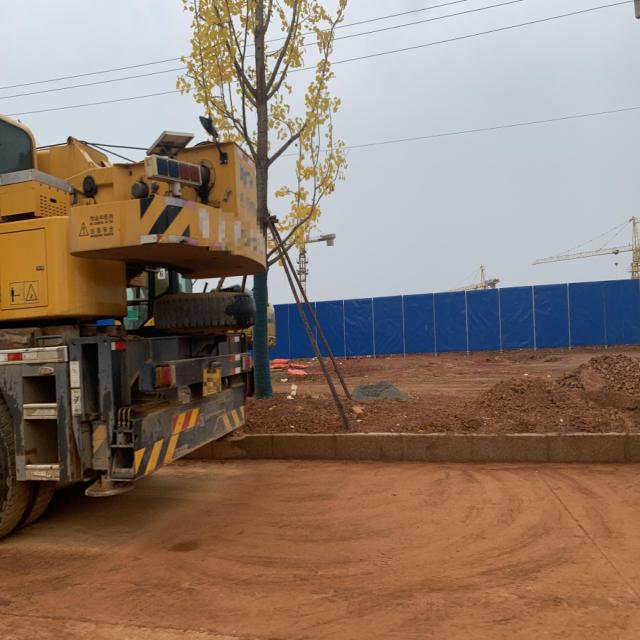crane: (0, 113, 267, 540), (532, 216, 639, 278), (294, 231, 335, 294), (449, 264, 499, 291)
